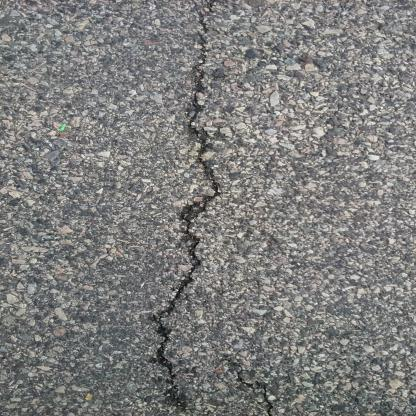Cracks: (129, 2, 240, 413)
